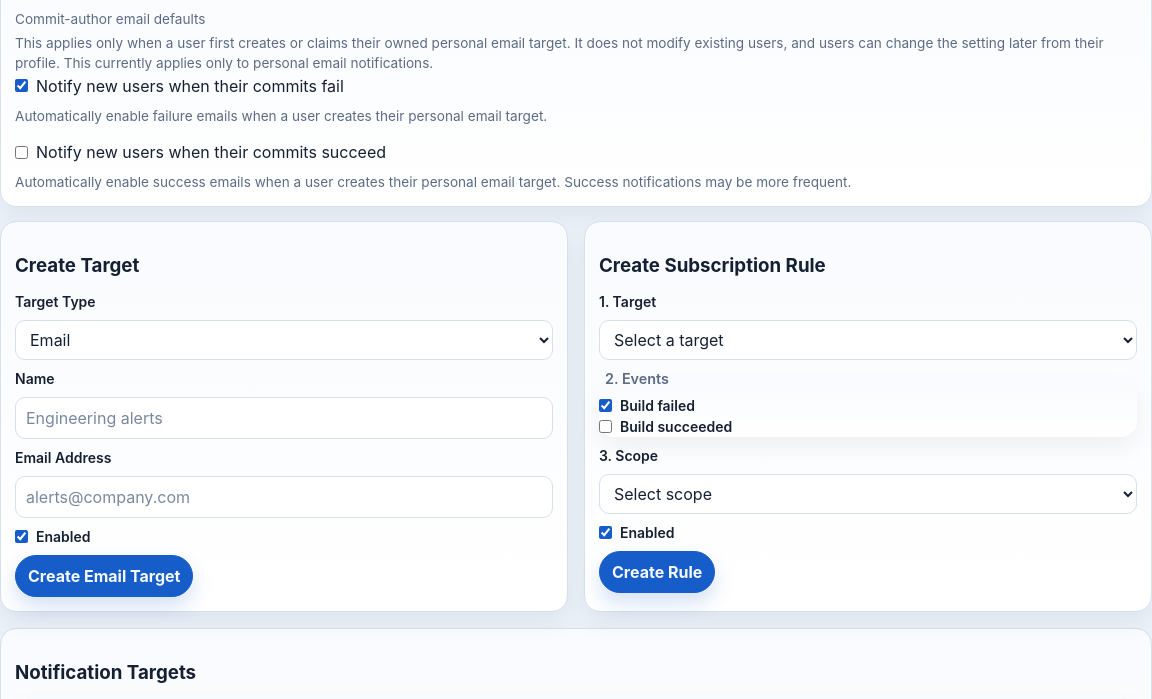
NotificationsPage › surfaces partial create failures
(page scrolled)
Select "Email · Engineering alerts" in the dropdown labelled "1. Target" at {"x": 868, "y": 340}, box [599,320,1137,360]
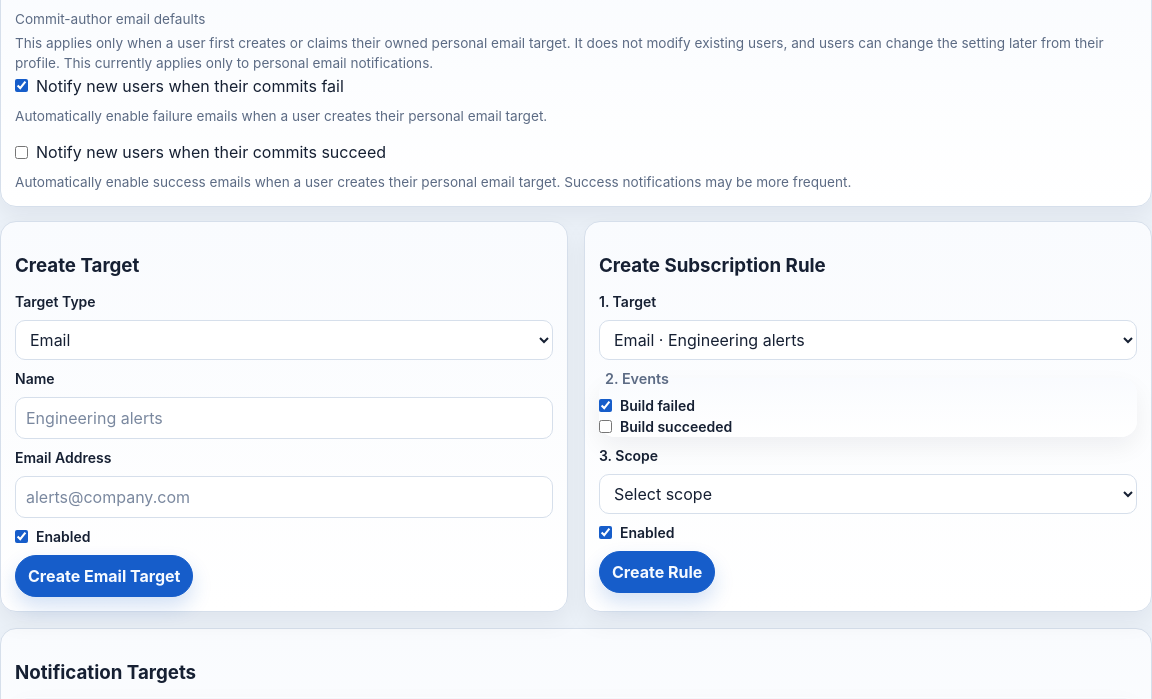
Select "All jobs in a project" in the dropdown labelled "3. Scope" at {"x": 868, "y": 494}, box [599,474,1137,514]
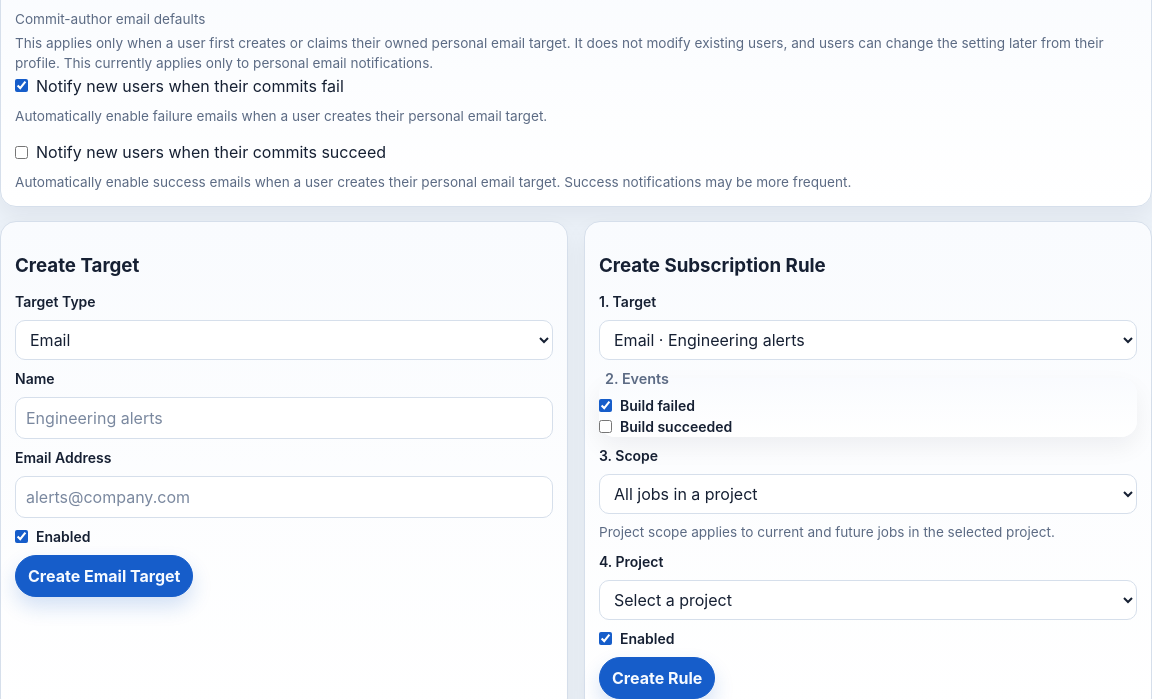
Select "Coyote CI (coyote-ci)" in the dropdown labelled "4. Project" at {"x": 868, "y": 600}, box [599,580,1137,620]
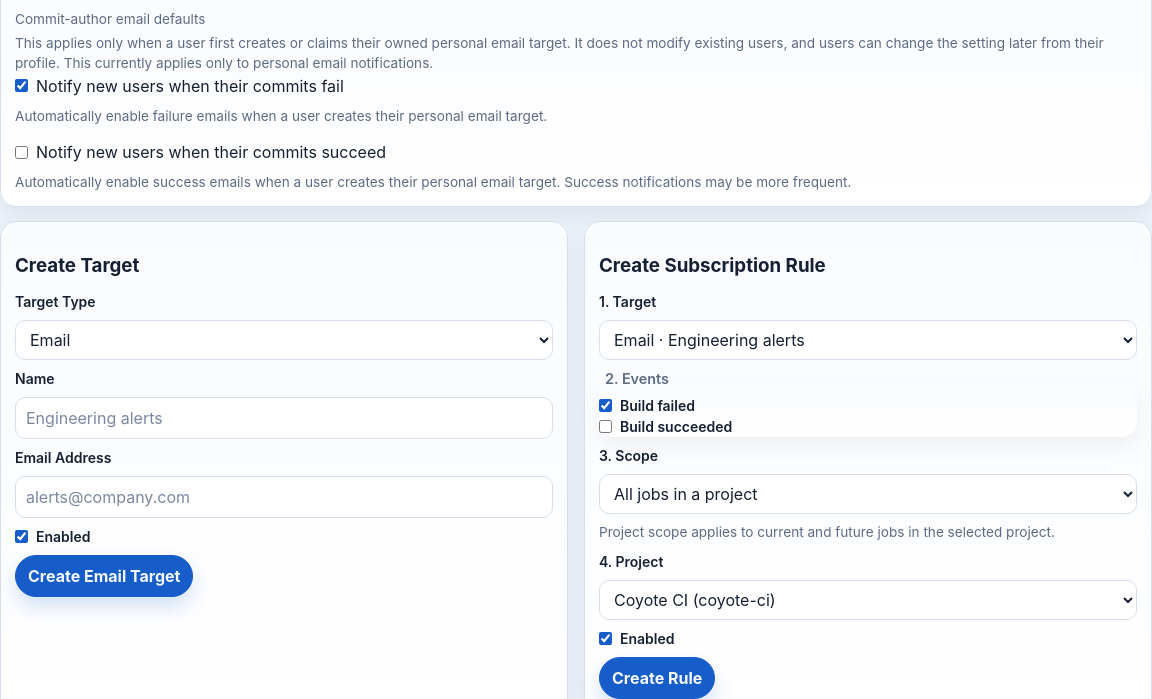
Click the checkbox labelled "Build succeeded" at {"x": 606, "y": 427}, box [599,420,612,433]
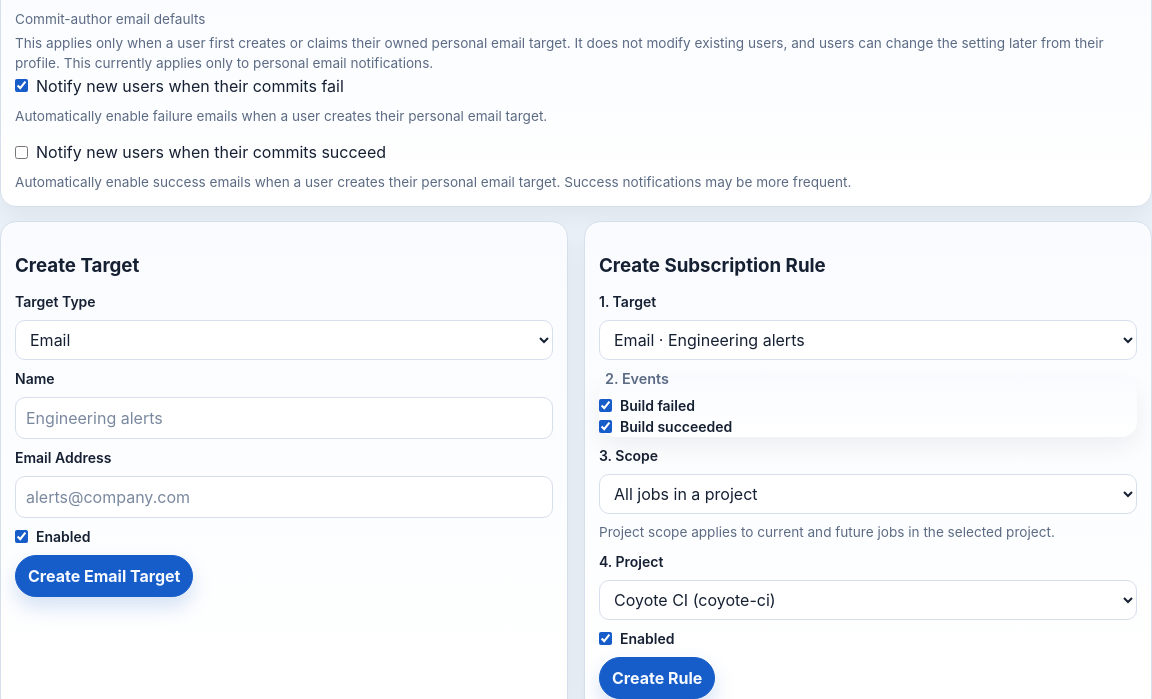
Click the button "Create Rule" at {"x": 657, "y": 678}, box [599,656,715,698]
(page scrolled)
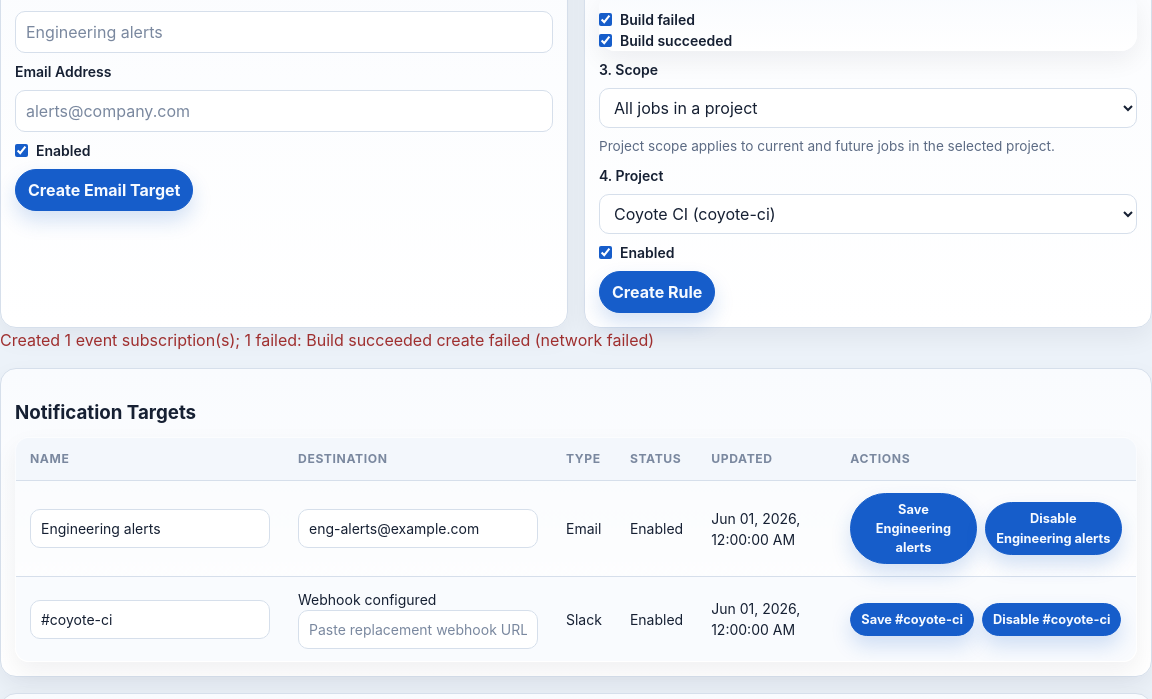
Result: the text "Created 1 event subscription(s); 1 failed" is shown at [0,330,654,350]
